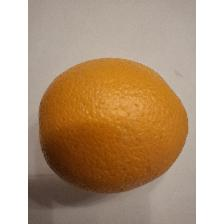Orange: (34, 51, 191, 196)
